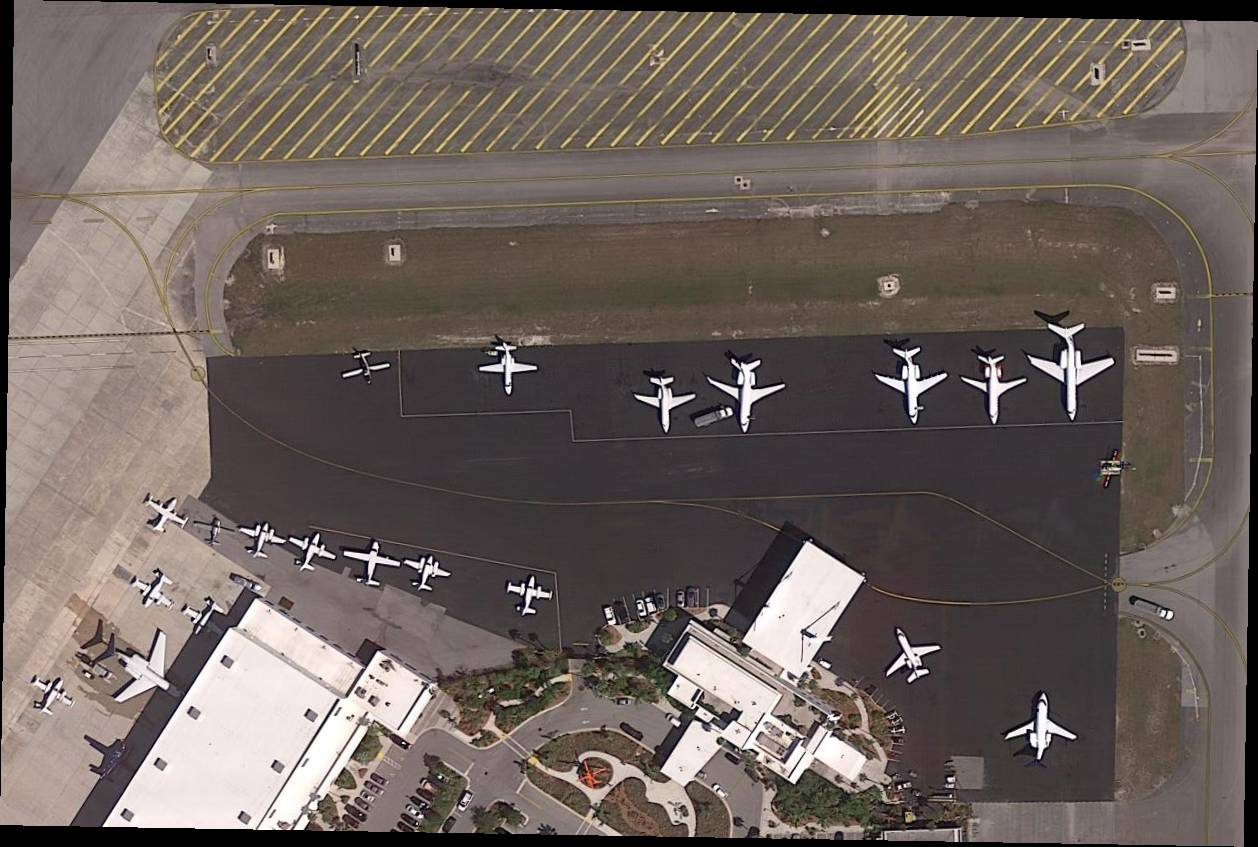helicopter: (1098, 449, 1138, 486)
large vehicle: (1131, 596, 1176, 623), (693, 406, 735, 429)
plane: (77, 605, 206, 735), (1021, 321, 1117, 424), (703, 357, 789, 435), (868, 613, 950, 694), (1002, 689, 1079, 770), (875, 346, 947, 426), (958, 354, 1026, 426), (79, 727, 146, 792), (632, 375, 698, 435), (337, 534, 405, 592), (123, 561, 186, 622), (280, 524, 344, 584), (176, 591, 238, 649), (136, 486, 195, 544), (22, 669, 82, 726), (478, 343, 540, 397), (396, 549, 456, 600), (233, 515, 290, 567), (503, 571, 556, 624), (338, 345, 393, 394), (190, 515, 237, 552)
